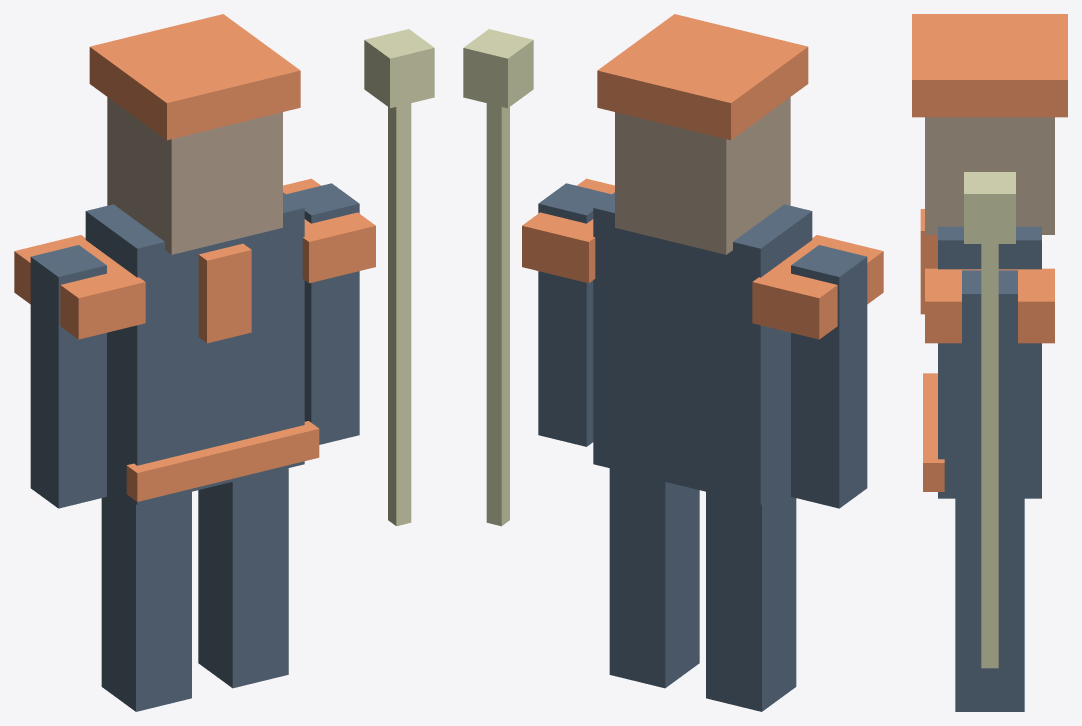
File: 15_nyra_frostrelay_sentinel_near_early_warning.glb
3 renders of one model, left to right at view 1: azimuth 30°, elevation 25°; view 2: azimuth 150°, elevation 25°; view 3: azimuth 270°, elevation 25°, orthographic.
Visible parts, largest first — view 1: Nyra Frostrelay, Sentinel near Early-Warning; view 2: Nyra Frostrelay, Sentinel near Early-Warning; view 3: Nyra Frostrelay, Sentinel near Early-Warning.
Boxes of the visible parts, x1=… form: Nyra Frostrelay, Sentinel near Early-Warning: x1=14, y1=14, x2=434, y2=711; Nyra Frostrelay, Sentinel near Early-Warning: x1=463, y1=14, x2=883, y2=711; Nyra Frostrelay, Sentinel near Early-Warning: x1=912, y1=14, x2=1067, y2=711.
Bounding box in the file's own units: 1.05 × 1.66 × 0.3729.
